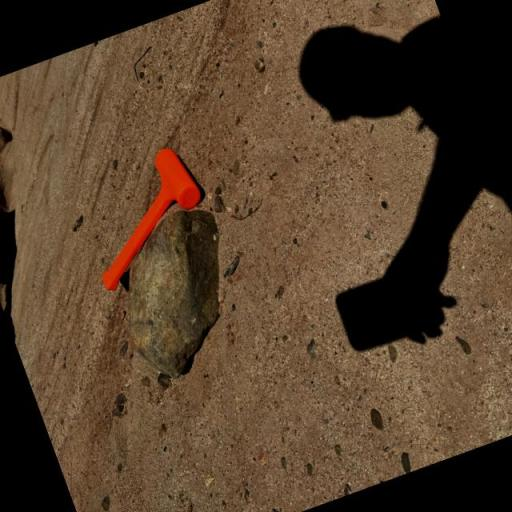mallet: (68, 142, 222, 294)
